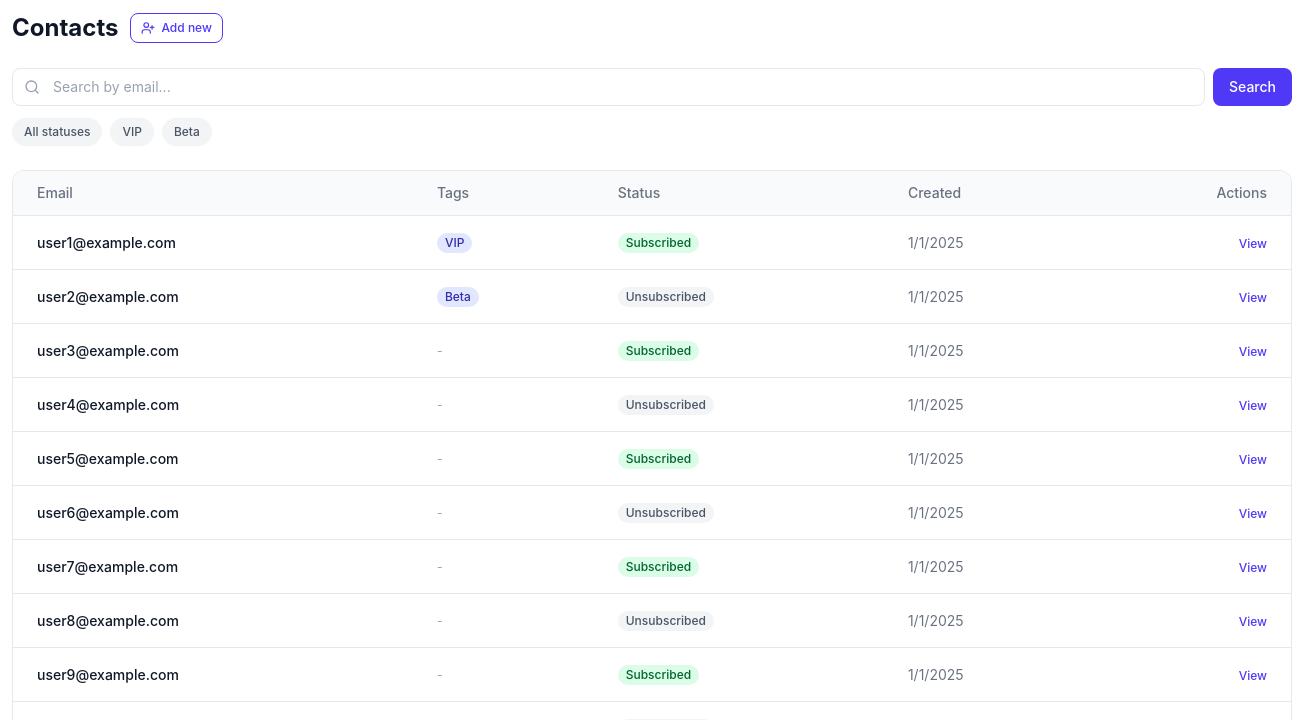
Test: Contacts › filters contacts by search
Expected: the text "user1@example.com" is shown, [13,216,413,270]
In the field with placeholder "Search by email...": (608, 87) [12,68,1205,106], type "user5"
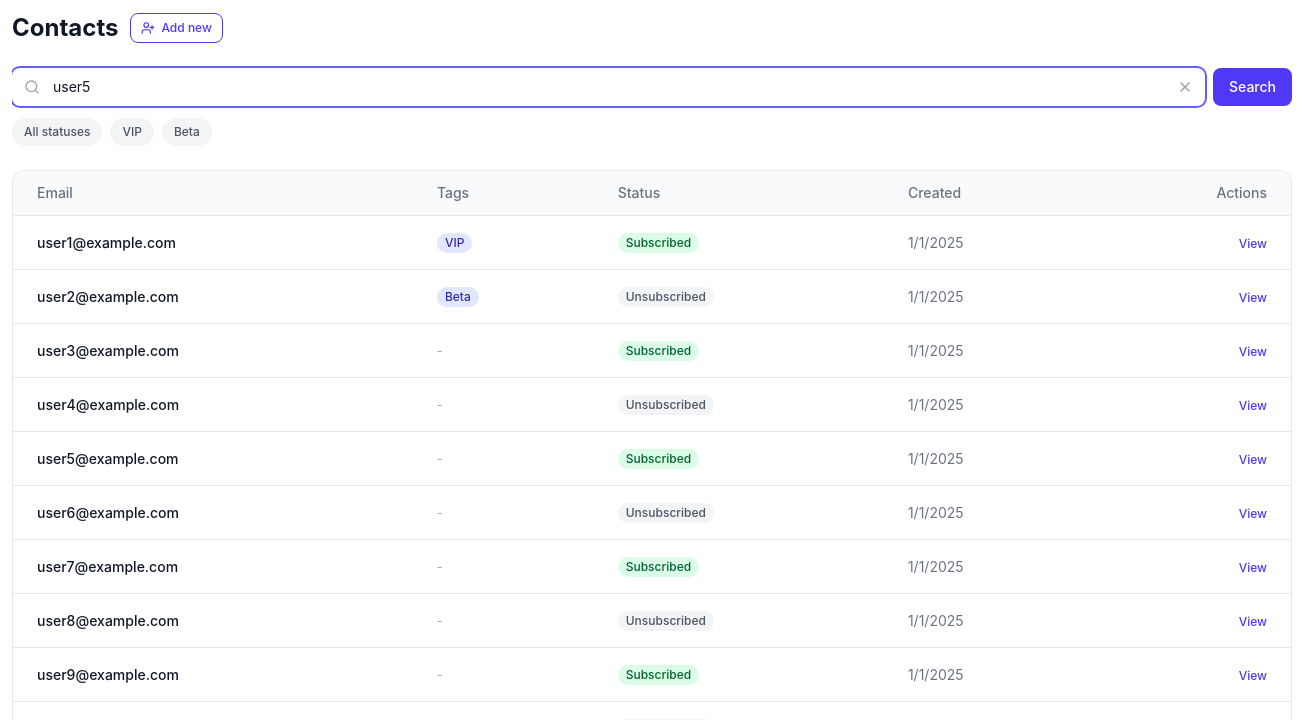
Click the button "Search": (1252, 87) [1213,68,1292,106]
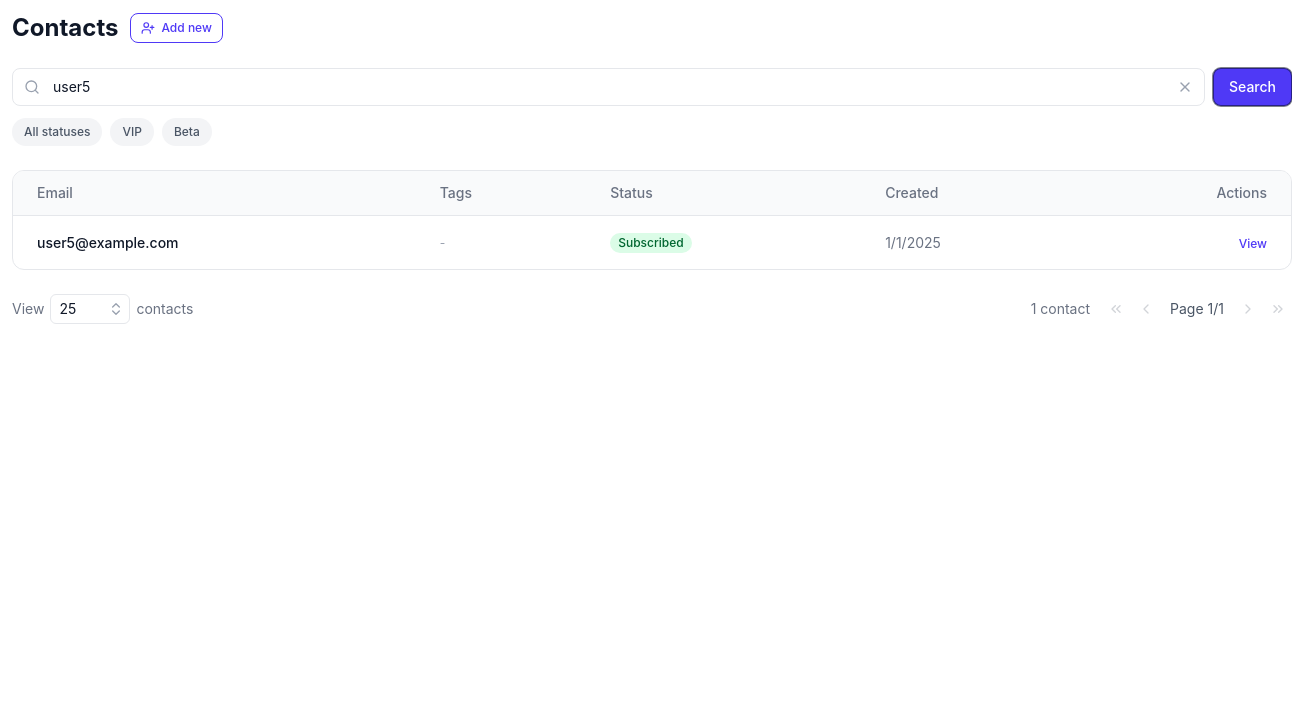
Expected: the text "user5@example.com" is shown, [13,216,416,269]
Expected: the text "user1@example.com" is gone
